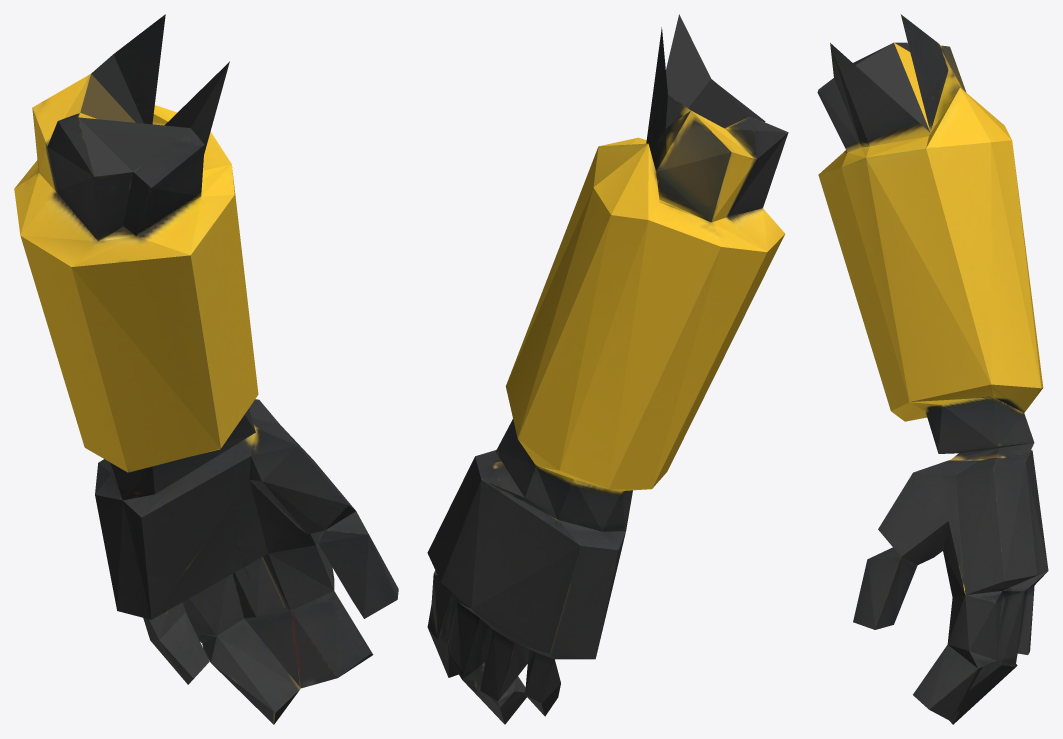
The model's file is SM_ChaserDebris_Forearm_L.fbx.
The picture shows the model from 3 angles, left to right: view 1: azimuth 30°, elevation 25°; view 2: azimuth 150°, elevation 25°; view 3: azimuth 270°, elevation 25°; orthographic projection. The views are drawn at different scales.
Parts seen in each view (by area): view 1: SM_ChaserDebris_Forearm_L; view 2: SM_ChaserDebris_Forearm_L; view 3: SM_ChaserDebris_Forearm_L.
Part boxes in pixels (x1,y1,x2,y2): SM_ChaserDebris_Forearm_L: (14, 14, 398, 724); SM_ChaserDebris_Forearm_L: (427, 14, 788, 724); SM_ChaserDebris_Forearm_L: (817, 14, 1048, 724).
Size of the model in its own units: 19.69 by 40.78 by 13.07.
Materials: 1 (1 with a texture image).
